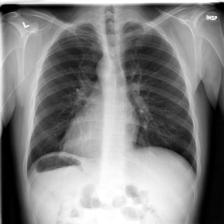normal: (23, 18, 201, 182)
